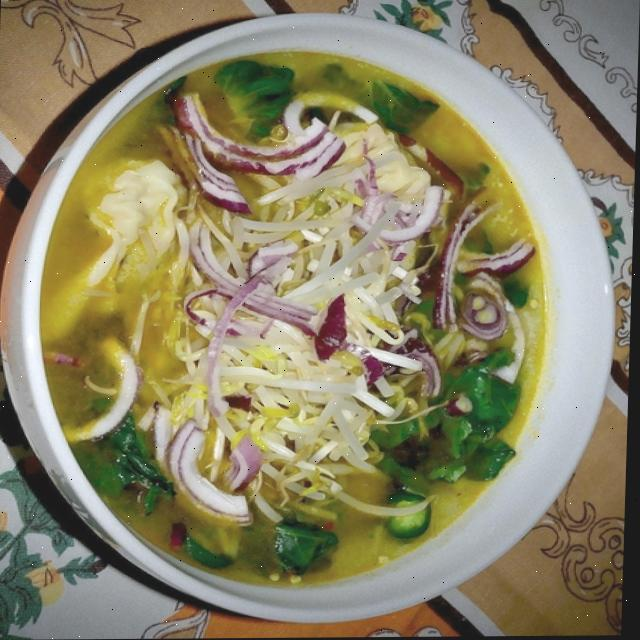面条主食: (10, 20, 597, 599)
